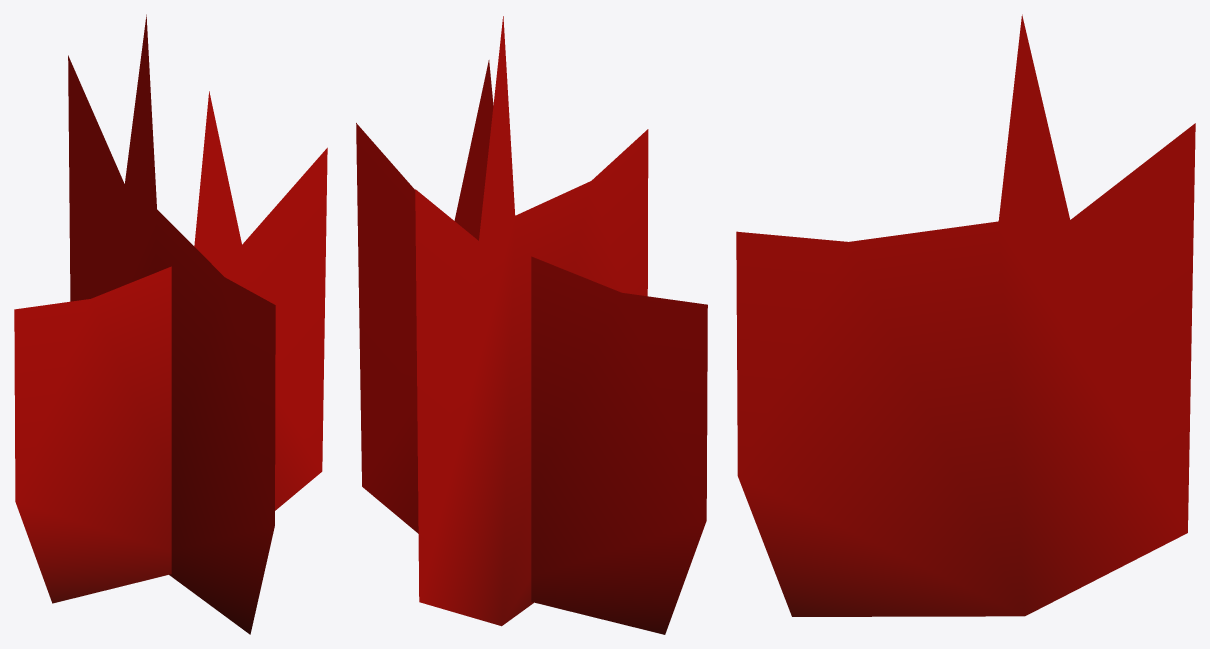
File: bush_2_medium.glb
3 views of the same model, side by side, from view 1: azimuth 30°, elevation 25°; view 2: azimuth 150°, elevation 25°; view 3: azimuth 270°, elevation 25° (orthographic). The views are drawn at different scales.
Parts seen in each view (by area): view 1: bush_2_medium; view 2: bush_2_medium; view 3: bush_2_medium.
Part boxes in pixels (bbox=[...]): bush_2_medium: bbox=[14, 14, 327, 634]; bush_2_medium: bbox=[356, 16, 707, 634]; bush_2_medium: bbox=[736, 14, 1195, 616].
Bounding box in the file's own units: 0.3561 × 0.5921 × 0.4087.
